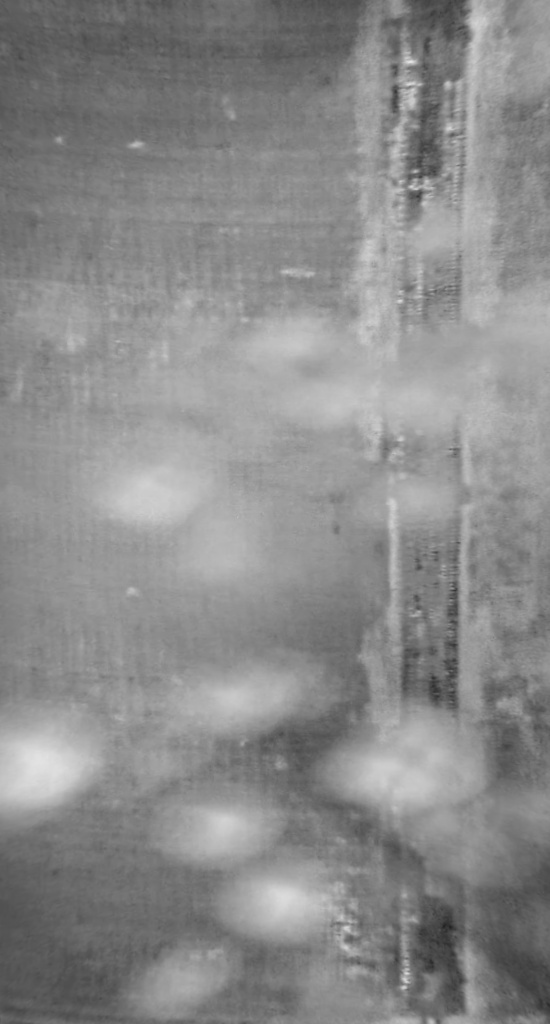splice: (372, 1, 469, 1023)
